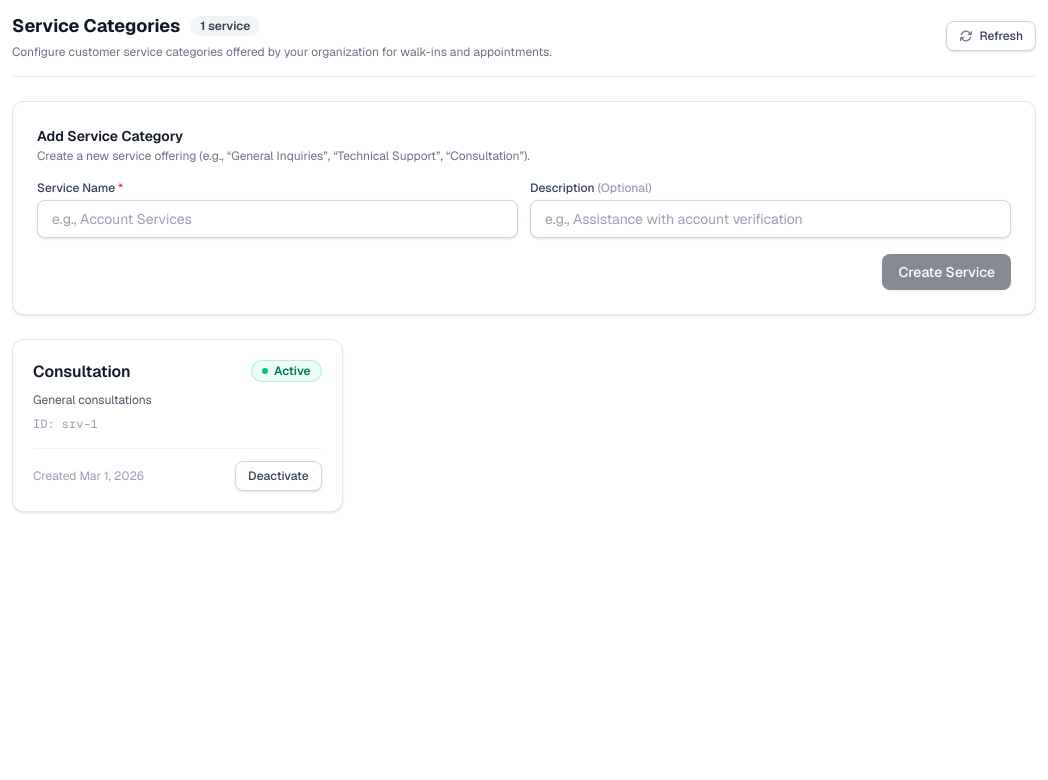
Test: components/admin/ServiceManagement › Service activation and deactivation controls › successfully deactivates an active service and updates UI status and button
Expected: the heading "Consultation" is shown, x1=33 y1=360 x2=131 y2=384
Expected: the text "Active" is shown, x1=251 y1=360 x2=322 y2=382
Click the button with aria-label "deactivate consultation". click: (278, 476)
box: x1=235 y1=461 x2=322 y2=491
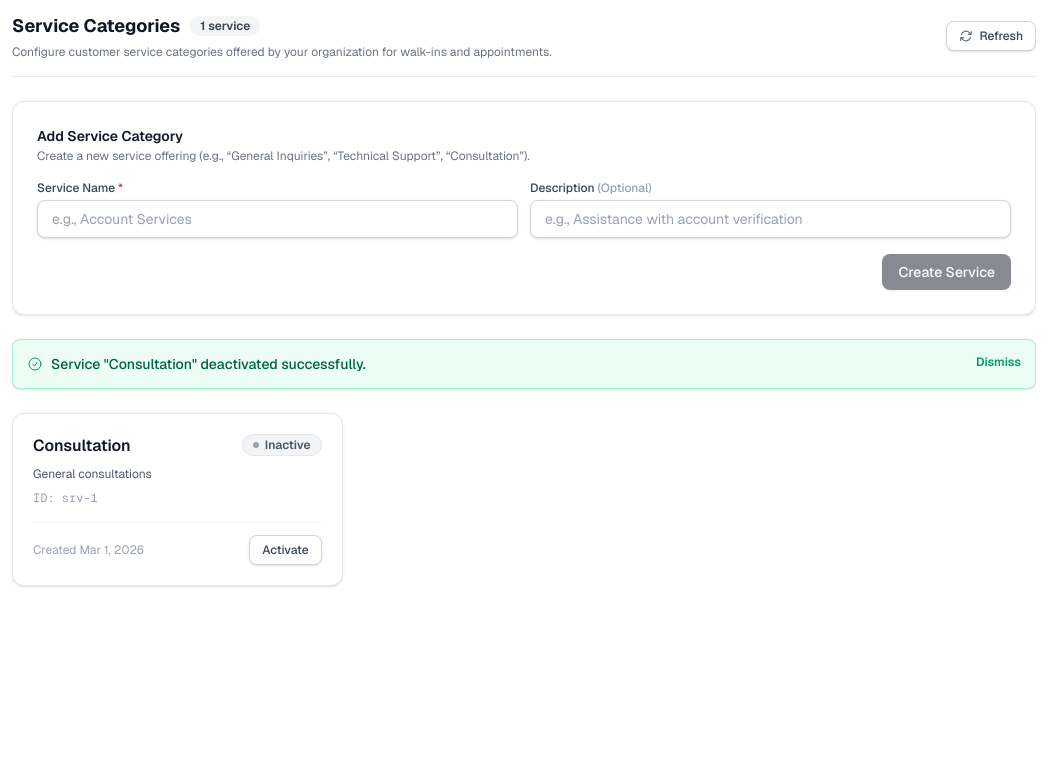
Expected: the button with aria-label "activate consultation" is shown, x1=249 y1=535 x2=322 y2=565
Expected: the text "Service \"Consultation\" deactivated successfully." is shown, x1=51 y1=354 x2=366 y2=374
Expected: the text "Inactive" is shown, x1=242 y1=434 x2=322 y2=456
